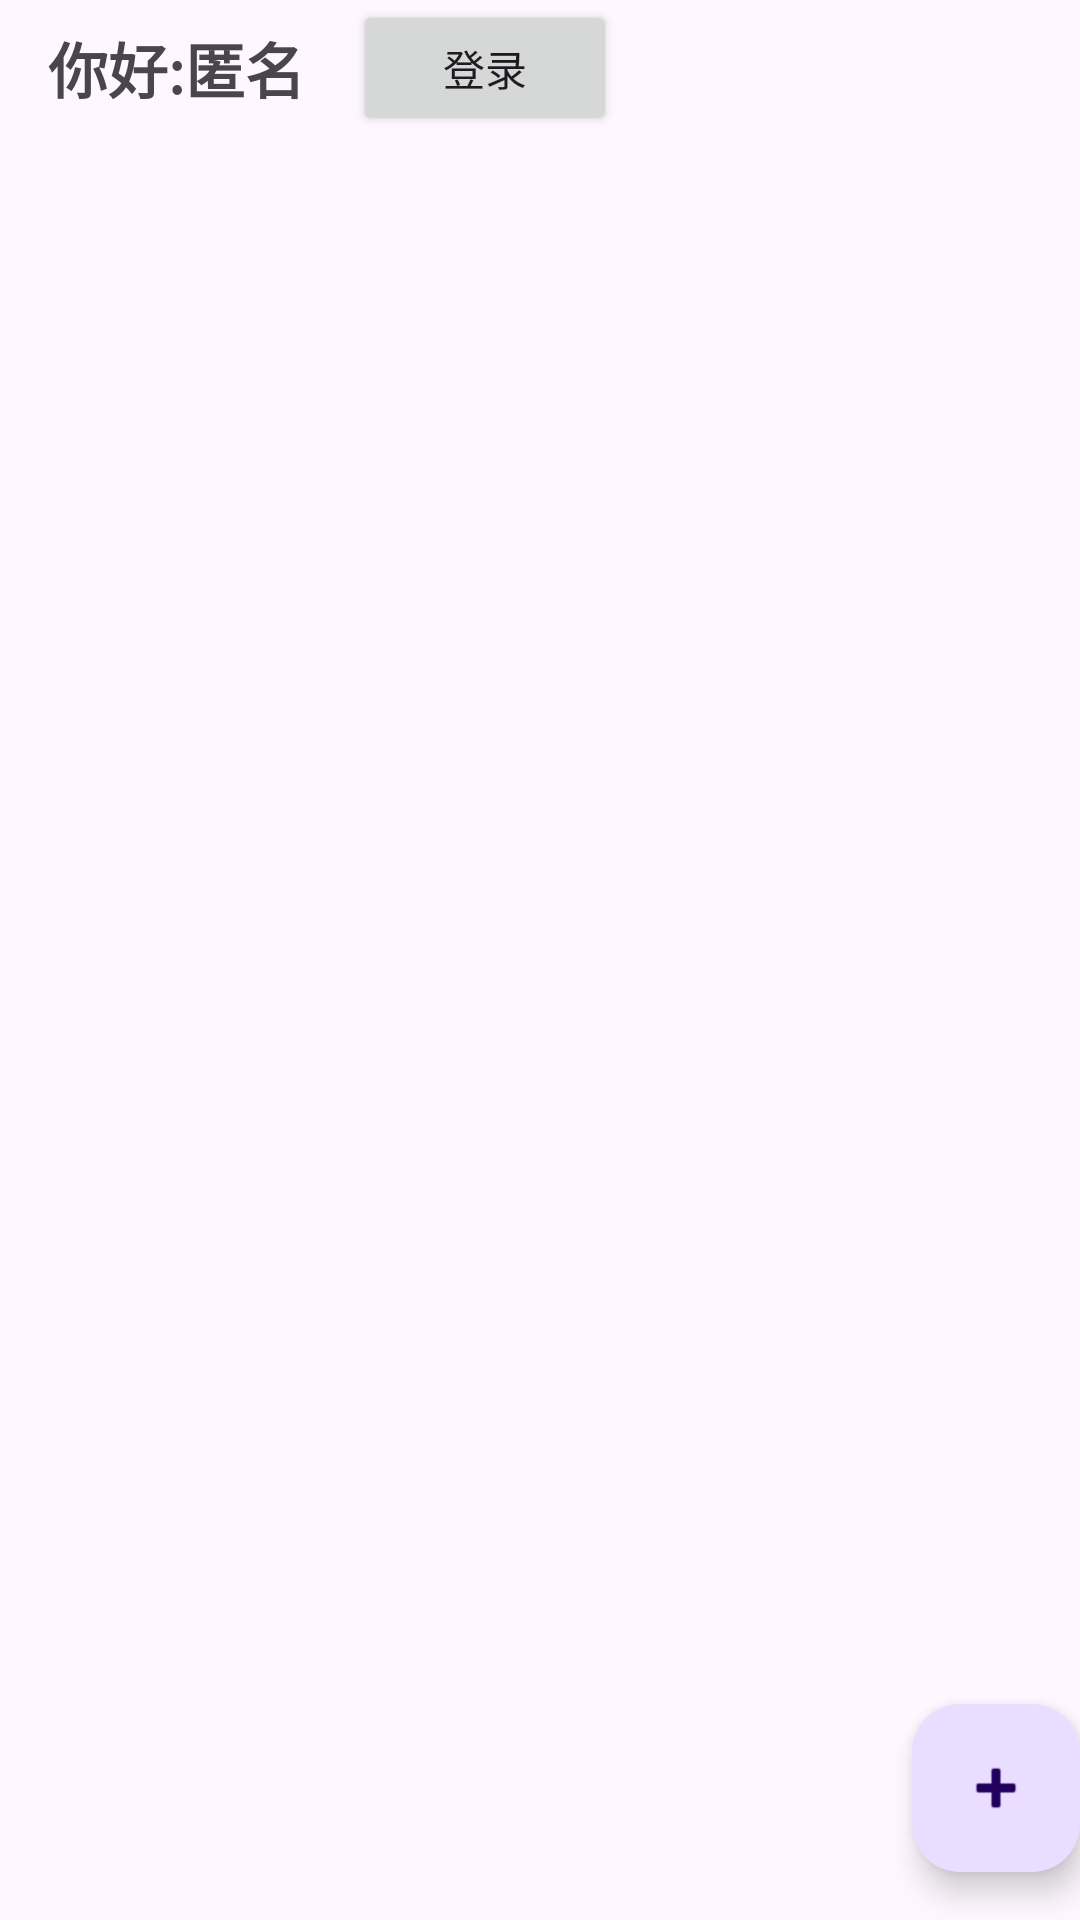

Icons on this 1080*1920 Android screen, each with its box as (x1, y1, x2, y2):
New: (912, 1704, 1080, 1872)
